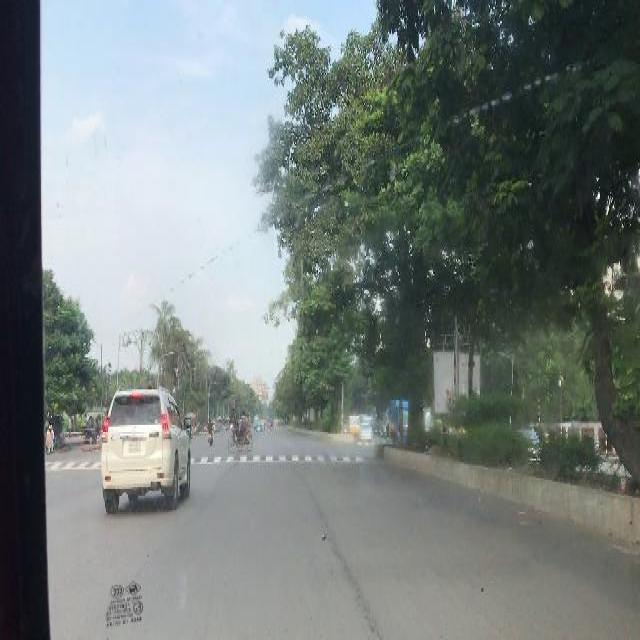10: (204, 417, 214, 447)
13: (226, 406, 254, 454)
15: (100, 386, 192, 516)
17: (378, 422, 388, 438)
5: (359, 423, 371, 441)
Truck: (347, 416, 358, 434)
